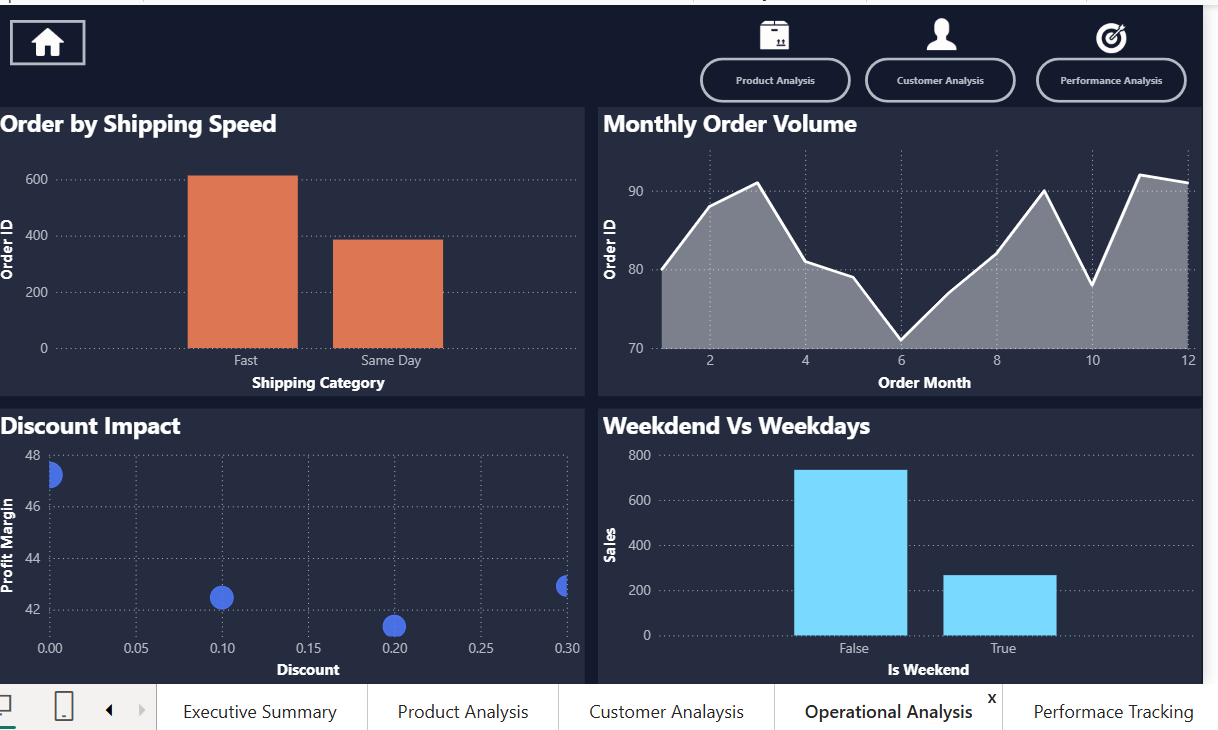

The dashboard page shown, as its layout file describes it:
{"tool":"powerbi","page":{"name":"Operational Analysis","canvas":[1280,720],"ordinal":3},"visuals":[{"type":"clusteredColumnChart","title":"Order by Shipping Speed","fields":{"Category":["Orders.Shipping Category"],"Y":["CountNonNull(Orders.Order ID)"]},"box":[0,108.3,625,306.7],"z":0},{"type":"clusteredColumnChart","title":"Weekdend Vs Weekdays","fields":{"Y":["CountNonNull(Orders.Sales)"],"Category":["Calendar.Is Weekend"]},"box":[640,428.3,640,291.7],"z":1000},{"type":"areaChart","title":"Monthly Order Volume","fields":{"Y":["CountNonNull(Orders.Order ID)"],"Category":["Orders.Order Month"]},"box":[640,108.3,640,306.7],"z":2000},{"type":"scatterChart","title":"Discount Impact","fields":{"Y":["Sum(Orders.Profit Margin)"],"X":["Orders.Discount"],"Size":["Sum(Orders.Sales)"]},"box":[0,428.3,625,291.7],"z":3000},{"type":"image","box":[15.9,15.9,79.5,47.7],"z":4000},{"type":"actionButton","box":[16,16,80,48],"z":5000},{"type":"actionButton","box":[747.1,55.7,160,48],"z":6000},{"type":"actionButton","box":[923.1,55.7,160,48],"z":7000},{"type":"actionButton","box":[1104,56,160,48],"z":9000},{"type":"image","box":[1161.6,8,44.8,54.4],"z":11000},{"type":"image","box":[977.8,6.4,51.2,49.6],"z":12000},{"type":"image","box":[803.4,8,46.4,48],"z":13000}]}

Visuals, with their boxes on the page's 1280x720 design canvas (x1, y1, x2, y2). These are canvas units, not pixel positions in the 1218x730 screenshot, which may show the page scaled, cropped or inside an application window:
"Order by Shipping Speed" clusteredColumnChart: pyautogui.locateOnScreen(0, 108, 625, 415)
"Weekdend Vs Weekdays" clusteredColumnChart: pyautogui.locateOnScreen(640, 428, 1280, 720)
"Monthly Order Volume" areaChart: pyautogui.locateOnScreen(640, 108, 1280, 415)
"Discount Impact" scatterChart: pyautogui.locateOnScreen(0, 428, 625, 720)
image: pyautogui.locateOnScreen(16, 16, 95, 64)
actionButton: pyautogui.locateOnScreen(16, 16, 96, 64)
actionButton: pyautogui.locateOnScreen(747, 56, 907, 104)
actionButton: pyautogui.locateOnScreen(923, 56, 1083, 104)
actionButton: pyautogui.locateOnScreen(1104, 56, 1264, 104)
image: pyautogui.locateOnScreen(1162, 8, 1206, 62)
image: pyautogui.locateOnScreen(978, 6, 1029, 56)
image: pyautogui.locateOnScreen(803, 8, 850, 56)
